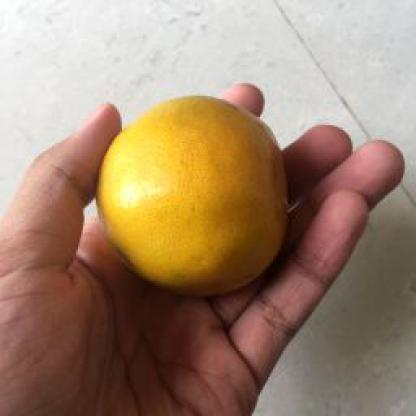orange: (96, 92, 294, 298)
